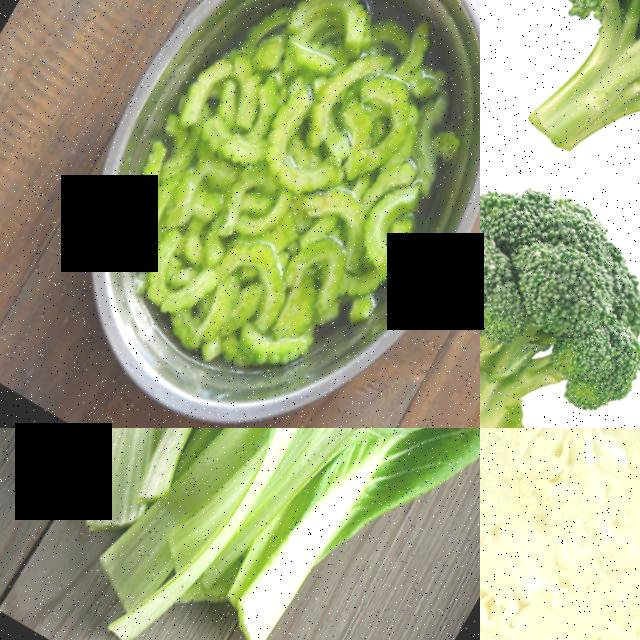bitter gourd: (124, 0, 449, 361)
bok choy: (225, 428, 480, 639), (52, 428, 400, 579)
broccoli: (480, 128, 640, 428), (480, 0, 640, 253), (480, 0, 586, 137)
cabbage: (480, 428, 640, 640)
